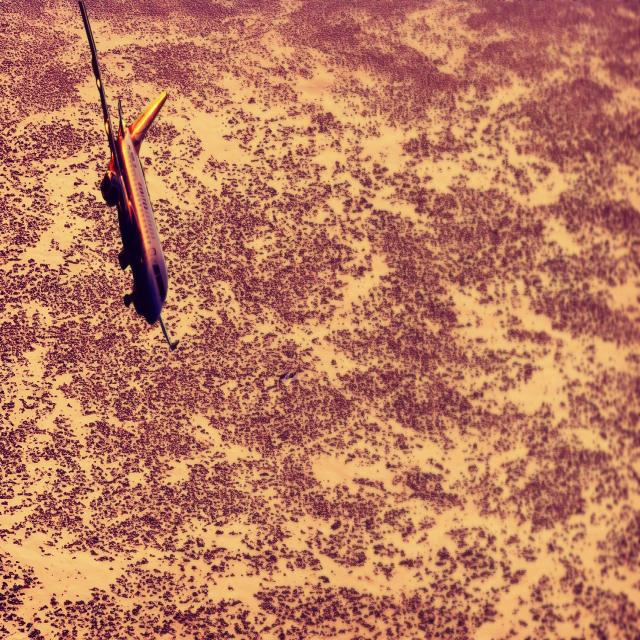airplane: (77, 0, 179, 351)
